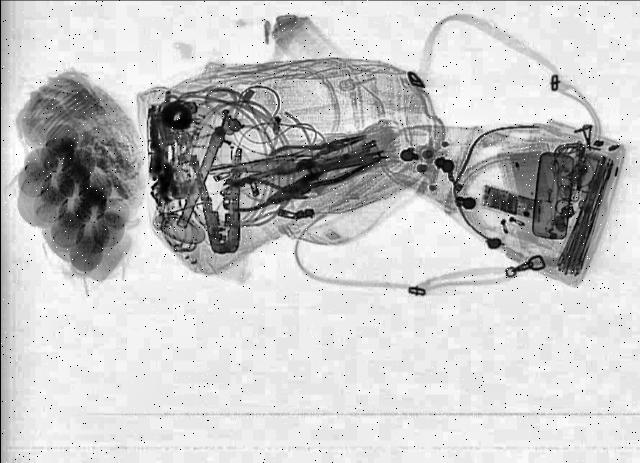Pliers: (257, 124, 373, 180), (188, 149, 248, 255), (220, 176, 312, 212)
